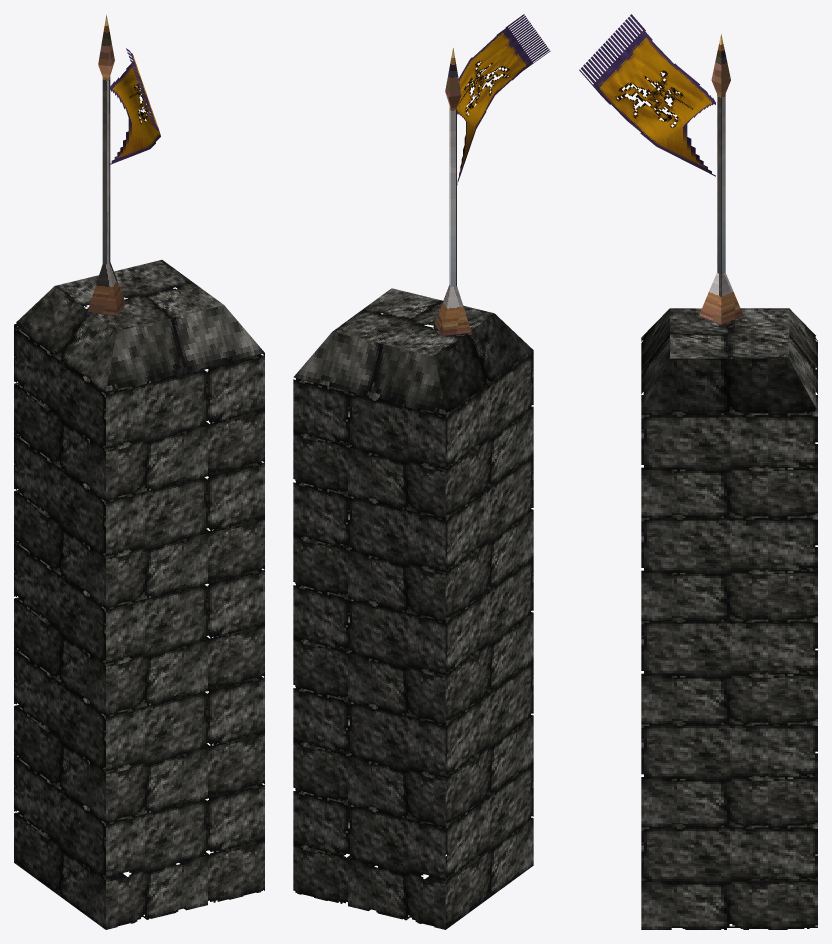
File: StoneWall06.obj
The picture shows the model from 3 angles, left to right: view 1: azimuth 30°, elevation 25°; view 2: azimuth 150°, elevation 25°; view 3: azimuth 270°, elevation 25°; orthographic projection. The views are drawn at different scales.
Visible parts, largest first — view 1: Mesh_2, Mesh_0, Mesh_1; view 2: Mesh_2, Mesh_1, Mesh_0; view 3: Mesh_2, Mesh_1, Mesh_0.
Boxes of the visible parts, left/top/right/bottom form: Mesh_2: left=14, top=260, right=264, bottom=929; Mesh_0: left=85, top=14, right=125, bottom=317; Mesh_1: left=109, top=48, right=160, bottom=164; Mesh_2: left=293, top=288, right=533, bottom=929; Mesh_1: left=457, top=14, right=550, bottom=184; Mesh_0: left=433, top=48, right=472, bottom=337; Mesh_2: left=641, top=308, right=817, bottom=929; Mesh_1: left=579, top=14, right=715, bottom=176; Mesh_0: left=699, top=34, right=743, bottom=327.
Size of the model in its own units: 1 by 5.32 by 1.36.
3 materials, 3 textured.
